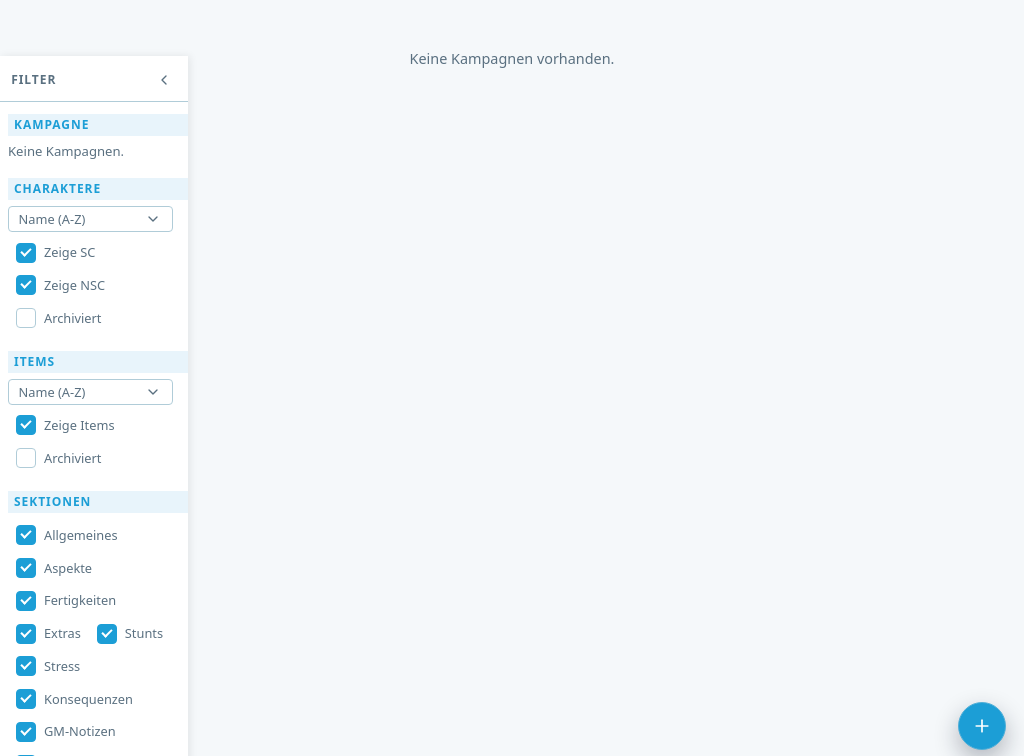
Test: DashboardView floating action menu › toggles the floating action menu when GM mode is on
Expected: the button "Timer" is not shown
Click the button named "Schnellaktionen öffnen".
click(982, 726)  # box [958,702,1006,750]
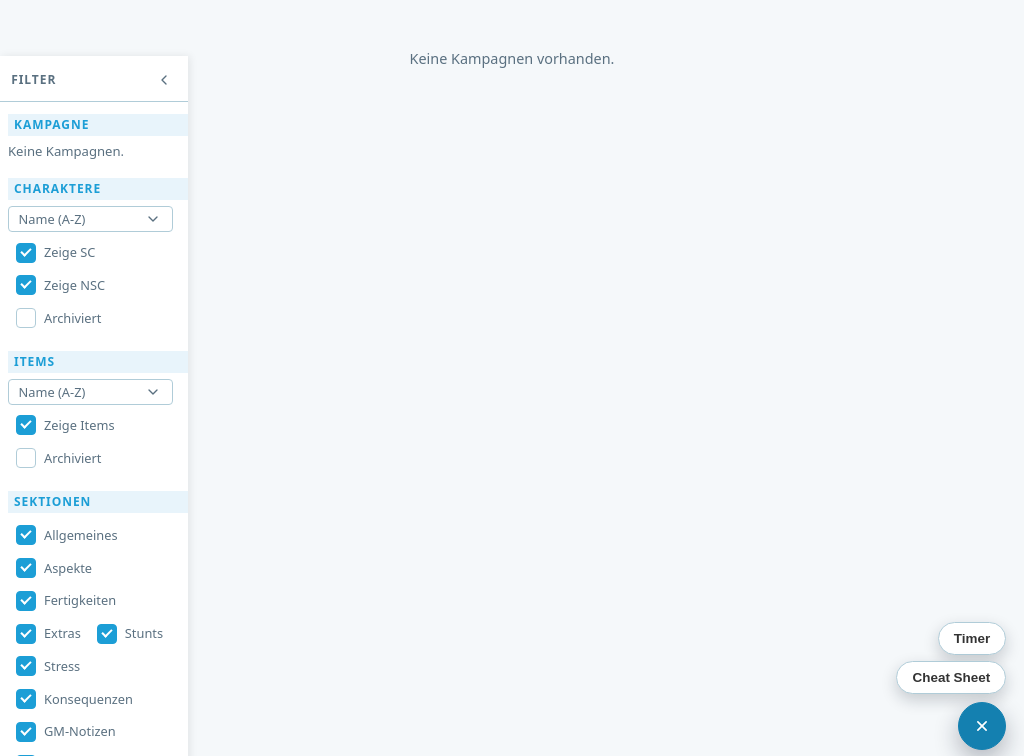
Expected: the button named "Schnellaktionen öffnen" is expanded
Expected: the button with aria-label "Cheat Sheet öffnen" is shown, [896,661,1006,694]
Expected: the button "Timer" is shown, [938,622,1006,655]
Click the button named "Schnellaktionen öffnen".
click(982, 726)  # box [958,702,1006,750]
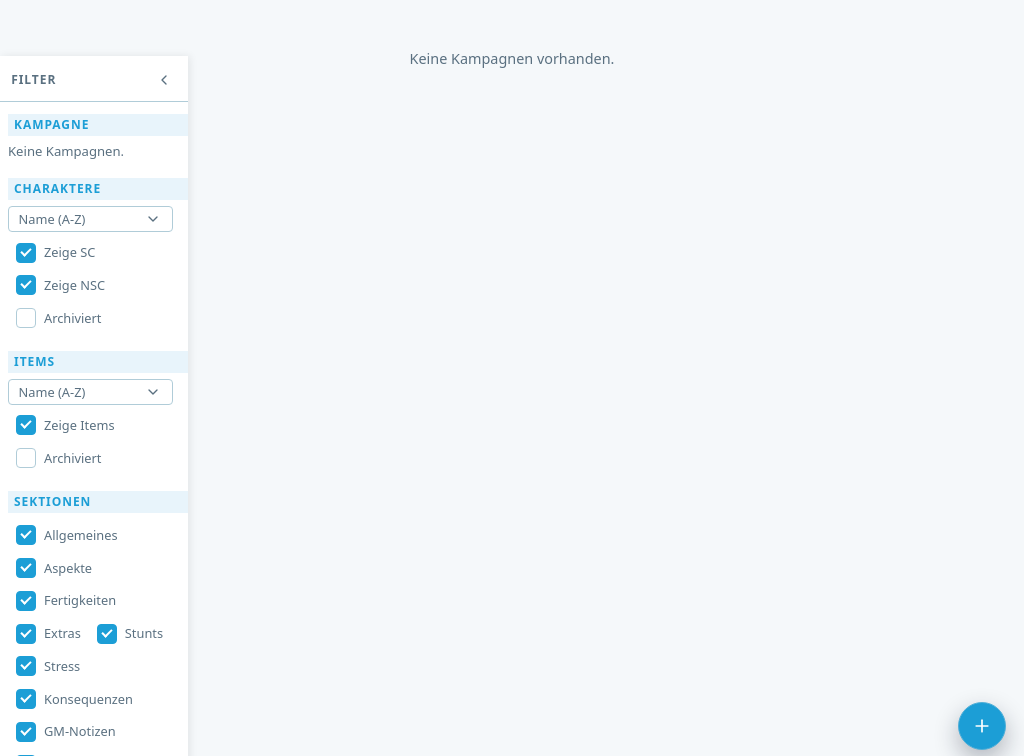
Expected: the button named "Schnellaktionen öffnen" is collapsed, [958,702,1006,750]
Expected: the button "Timer" is gone
